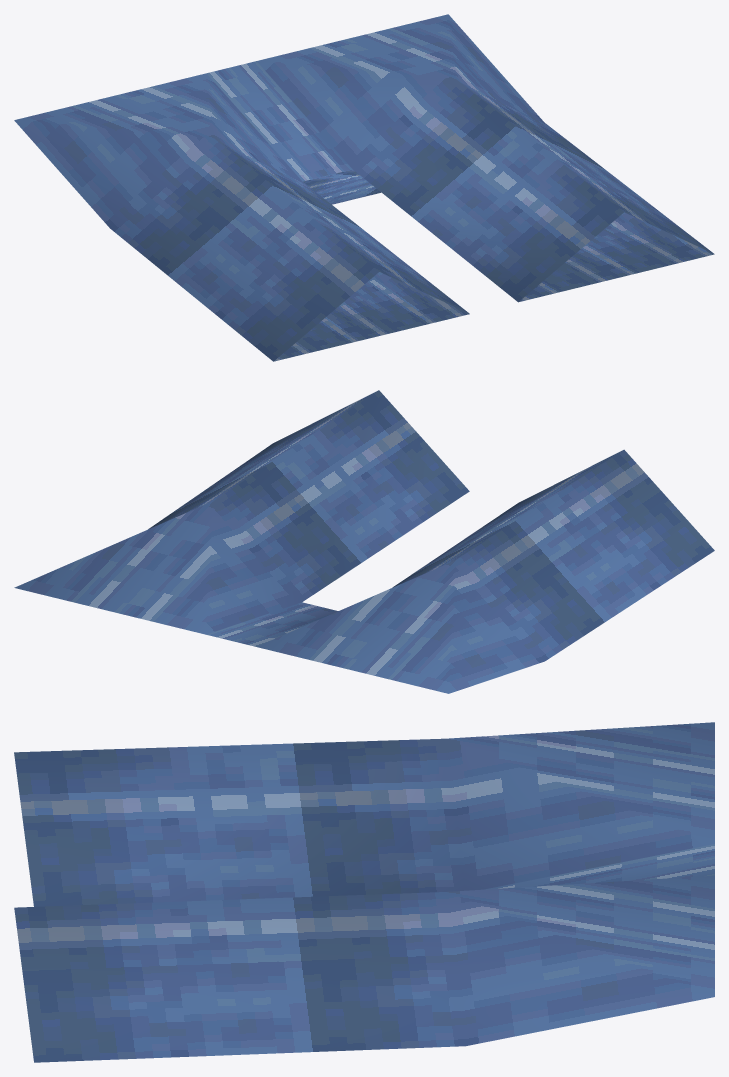
File: 2061pants000_r.gltf
3 renders of one model, top to bottom at view 1: azimuth 30°, elevation 25°; view 2: azimuth 150°, elevation 25°; view 3: azimuth 270°, elevation 25°, orthographic. The views are drawn at different scales.
Visible parts, largest first — view 1: 2061pants000_r; view 2: 2061pants000_r; view 3: 2061pants000_r.
Part boxes in pixels (box(x1,y1,x2,y2)): 2061pants000_r: box(14, 14, 714, 361); 2061pants000_r: box(14, 390, 714, 693); 2061pants000_r: box(14, 722, 714, 1062).
Size of the model in its own units: 0.7793 by 0.1667 by 0.8264.
Materials: 1 (1 with a texture image).
